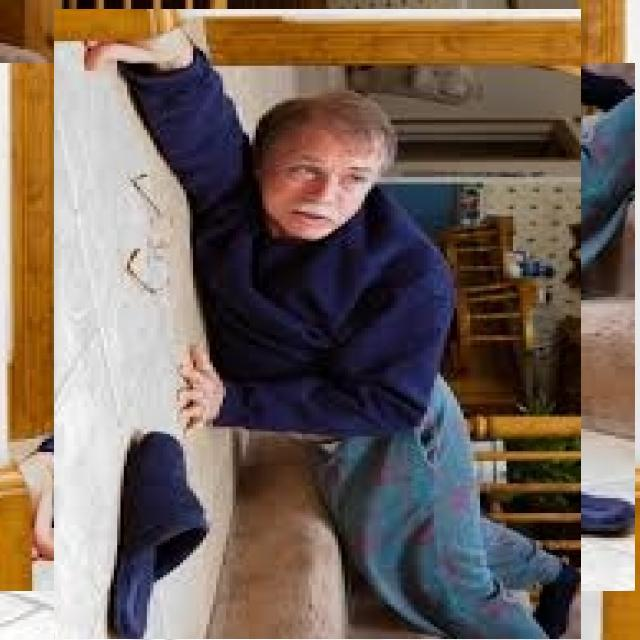Fall: (54, 49, 603, 640)
